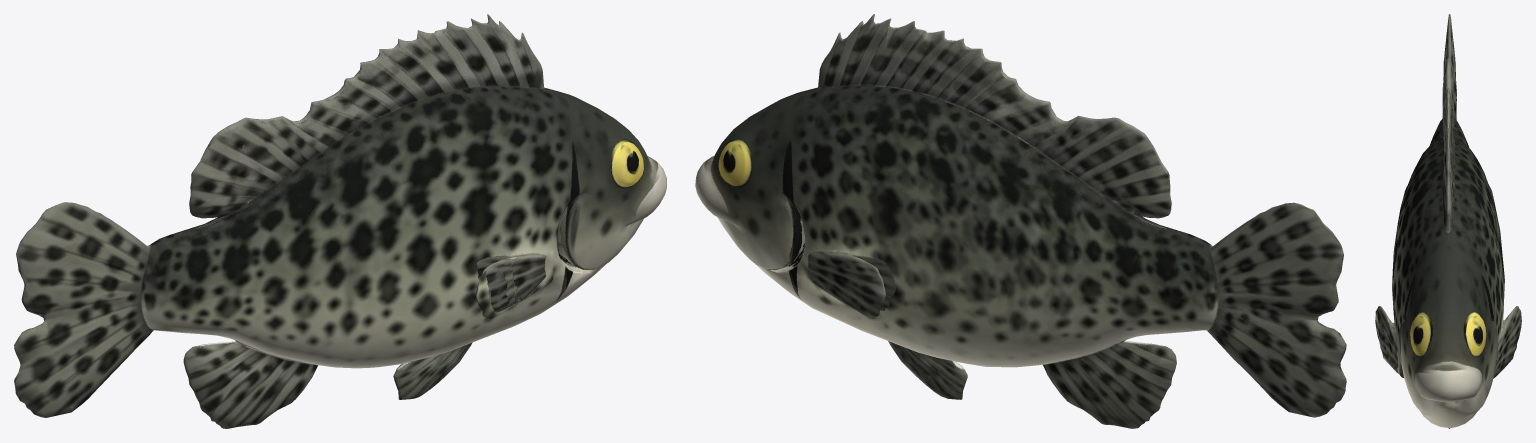
The model's file is black_crappie.glb.
The picture shows the model from 3 angles, left to right: view 1: azimuth 30°, elevation 25°; view 2: azimuth 150°, elevation 25°; view 3: azimuth 270°, elevation 25°; orthographic projection. The views are drawn at different scales.
Visible parts, largest first — view 1: fish; view 2: fish; view 3: fish.
Boxes of the visible parts, bbox=[...] form: fish: bbox=[14, 14, 666, 428]; fish: bbox=[695, 14, 1346, 428]; fish: bbox=[1375, 14, 1521, 428].
Size of the model in its own units: 1 by 0.5441 by 0.2173.
Materials: 1 (1 with a texture image).
